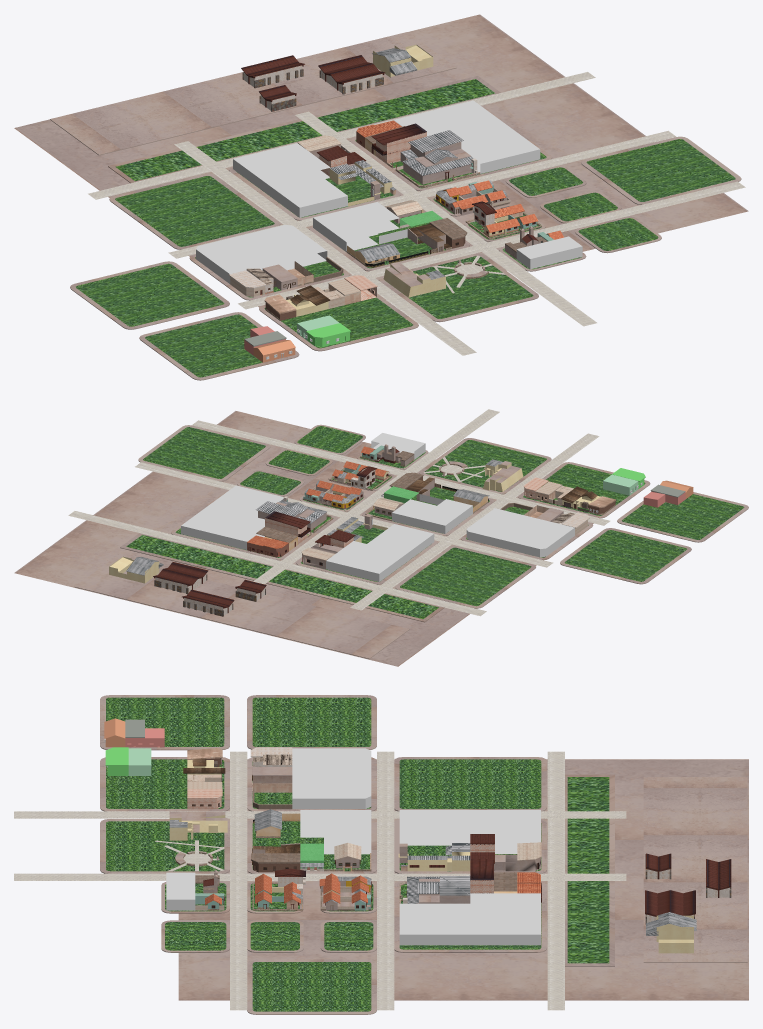
The model's file is CasasTexturas_02.fbx.
The picture shows the model from 3 angles, top to bottom: view 1: azimuth 30°, elevation 25°; view 2: azimuth 150°, elevation 25°; view 3: azimuth 270°, elevation 25°; orthographic projection. The views are drawn at different scales.
Visible parts, largest first — view 1: Tierra, Piso, Esquinas, tierra, Plane.019, Plane.027, Cuadra2, jugador plane.002, jugador plane.003, jugador plane, Plane.016, jugador plane.001 (+13 smaller); view 2: Tierra, Esquinas, Piso, tierra, Plane.027, Plane.019, Cuadra2, jugador plane.004, jugador plane.002, jugador plane.003, jugador plane, jugador plane.001 (+13 smaller); view 3: Tierra, Piso, Esquinas, tierra, Plane.027, Plane.019, Cuadra2, jugador plane, jugador plane.001, jugador plane.004, jugador plane.003, Plane.016 (+17 smaller).
Part boxes in pixels (x1=…): Tierra: x1=76, y1=139, x2=735, y2=377; Piso: x1=14, y1=14, x2=748, y2=307; Esquinas: x1=50, y1=32, x2=741, y2=380; tierra: x1=115, y1=79, x2=494, y2=181; Plane.019: x1=233, y1=143, x2=347, y2=217; Plane.027: x1=393, y1=100, x2=540, y2=173; Cuadra2: x1=196, y1=224, x2=327, y2=283; jugador plane.002: x1=174, y1=141, x2=476, y2=355; jugador plane.003: x1=295, y1=111, x2=596, y2=326; jugador plane: x1=238, y1=181, x2=745, y2=309; Plane.016: x1=313, y1=202, x2=407, y2=251; jugador plane.001: x1=168, y1=130, x2=676, y2=258; Tierra: x1=143, y1=426, x2=744, y2=606; Esquinas: x1=75, y1=424, x2=748, y2=659; Piso: x1=14, y1=411, x2=593, y2=666; tierra: x1=126, y1=535, x2=438, y2=618; Plane.027: x1=181, y1=485, x2=283, y2=549; Plane.019: x1=326, y1=524, x2=434, y2=581; Cuadra2: x1=466, y1=508, x2=574, y2=557; jugador plane.004: x1=68, y1=511, x2=486, y2=616; jugador plane.002: x1=350, y1=433, x2=599, y2=610; jugador plane.003: x1=253, y1=409, x2=499, y2=584; jugador plane: x1=192, y1=420, x2=610, y2=525; jugador plane.001: x1=135, y1=462, x2=553, y2=567; Tierra: x1=106, y1=697, x2=541, y2=1011; Piso: x1=178, y1=759, x2=748, y2=1000; Esquinas: x1=100, y1=695, x2=747, y2=1014; tierra: x1=567, y1=777, x2=609, y2=963; Plane.027: x1=399, y1=893, x2=540, y2=945; Plane.019: x1=399, y1=810, x2=540, y2=853; Cuadra2: x1=292, y1=748, x2=371, y2=808; jugador plane: x1=230, y1=751, x2=247, y2=1010; jugador plane.001: x1=377, y1=751, x2=394, y2=1010; jugador plane.004: x1=547, y1=751, x2=564, y2=1010; jugador plane.003: x1=14, y1=873, x2=626, y2=880; Plane.016: x1=300, y1=810, x2=371, y2=854.
Bounding box in the file's own units: 144124 × 140309 × 5359.
37 materials, 31 textured.
